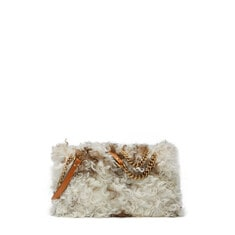Gucci: (37, 128, 190, 222)
